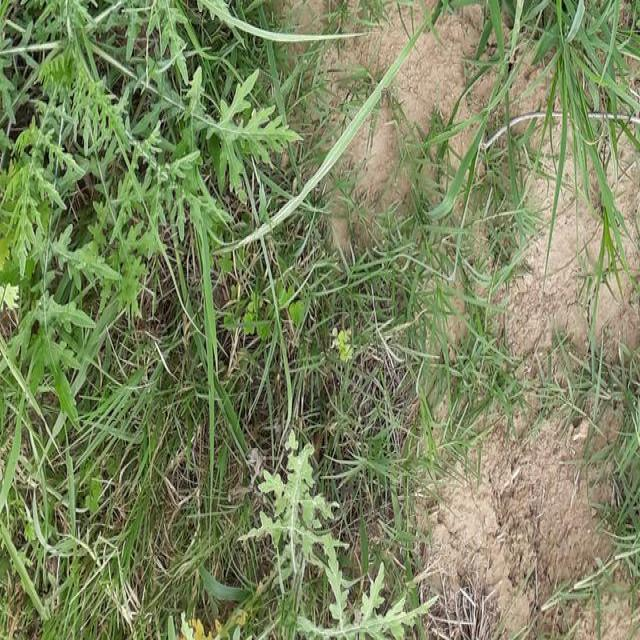weed: (14, 399, 474, 640), (332, 203, 517, 551), (484, 0, 640, 216)
